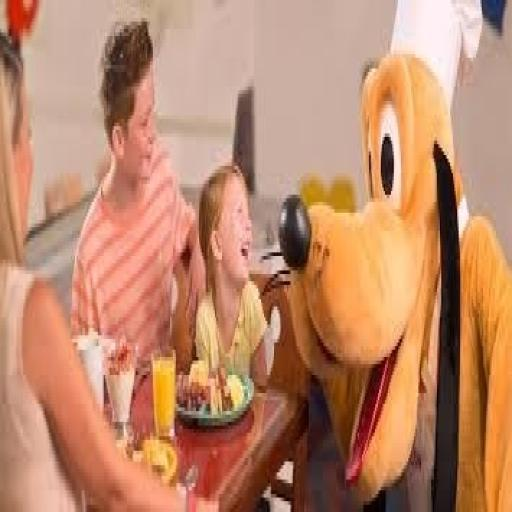eating: (0, 22, 218, 508)
